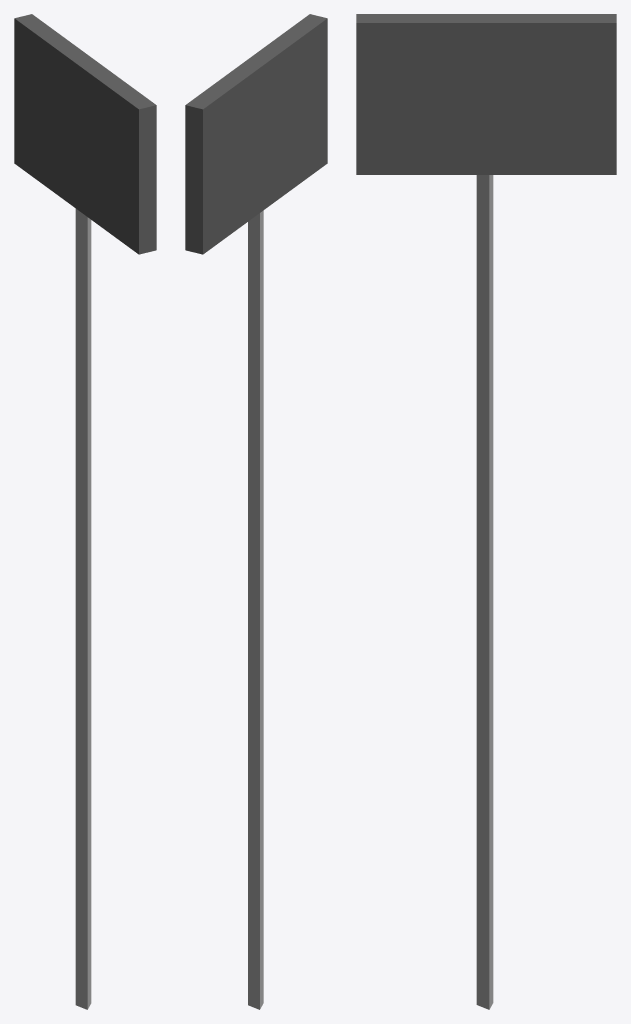
File: Prop_Sign_C_col.fbx
The picture shows the model from 3 angles, left to right: view 1: azimuth 30°, elevation 25°; view 2: azimuth 150°, elevation 25°; view 3: azimuth 270°, elevation 25°; orthographic projection. The views are drawn at different scales.
Visible parts, largest first — view 1: Prop_Sign_C_col; view 2: Prop_Sign_C_col; view 3: Prop_Sign_C_col.
Part boxes in pixels (x1=…): Prop_Sign_C_col: x1=14, y1=14, x2=156, y2=1009; Prop_Sign_C_col: x1=185, y1=14, x2=327, y2=1009; Prop_Sign_C_col: x1=356, y1=14, x2=616, y2=1009.
Size of the model in its own units: 6 by 307 by 73.3.
